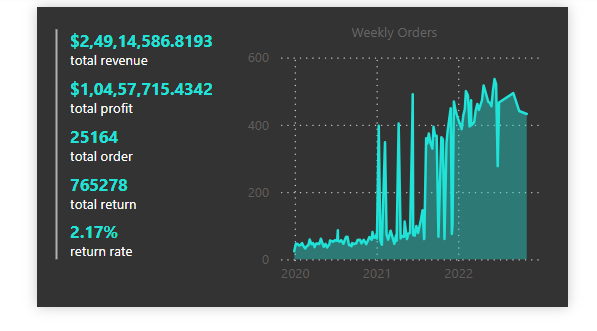

The dashboard page shown, as its layout file describes it:
{"tool":"powerbi","page":{"name":"Category Tooltip","canvas":[425,240],"ordinal":4},"visuals":[{"type":"multiRowCard","fields":{"Values":["Measure Table (2).total revenue","Measure Table (2).total profit","Measure Table (2).total order","Measure Table (2).total return","Measure Table (2).return rate"]},"box":[10,13,146,217],"z":0},{"type":"areaChart","title":" Weekly Orders","fields":{"Category":["Calendar Lookup.Start of Week"],"Y":["Measure Table (2).total order"]},"box":[163,13,246,217],"z":1000}]}

Visuals, with their boxes in screenshot pixels (x1, y1, x2, y2), scaled from the page's 425x240 canvas onto the 597x331 screenshot:
multiRowCard - Measure Table (2).total revenue x Measure Table (2).total profit: region(14, 18, 219, 317)
" Weekly Orders" areaChart: region(229, 18, 575, 317)
